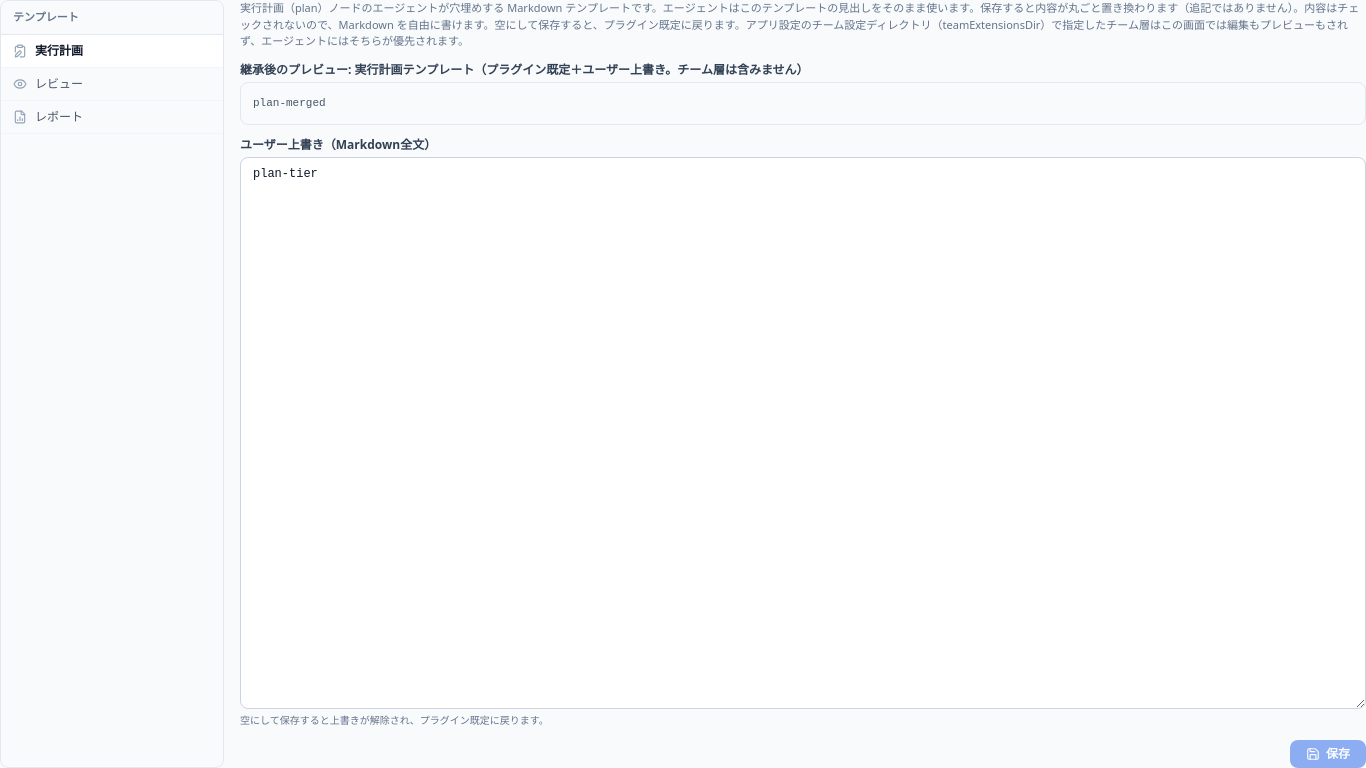
Scenario: TemplatesEditor › keeps the selection and the unsaved edit when the switch is cancelled with the cancel button
The width and height of the screenshot is (1366, 768).
Replace the text in the text box labelled "ユーザー上書き（Markdown全文）" with "# 編集途中" at (803, 433), box left=240, top=157, right=1365, bottom=709
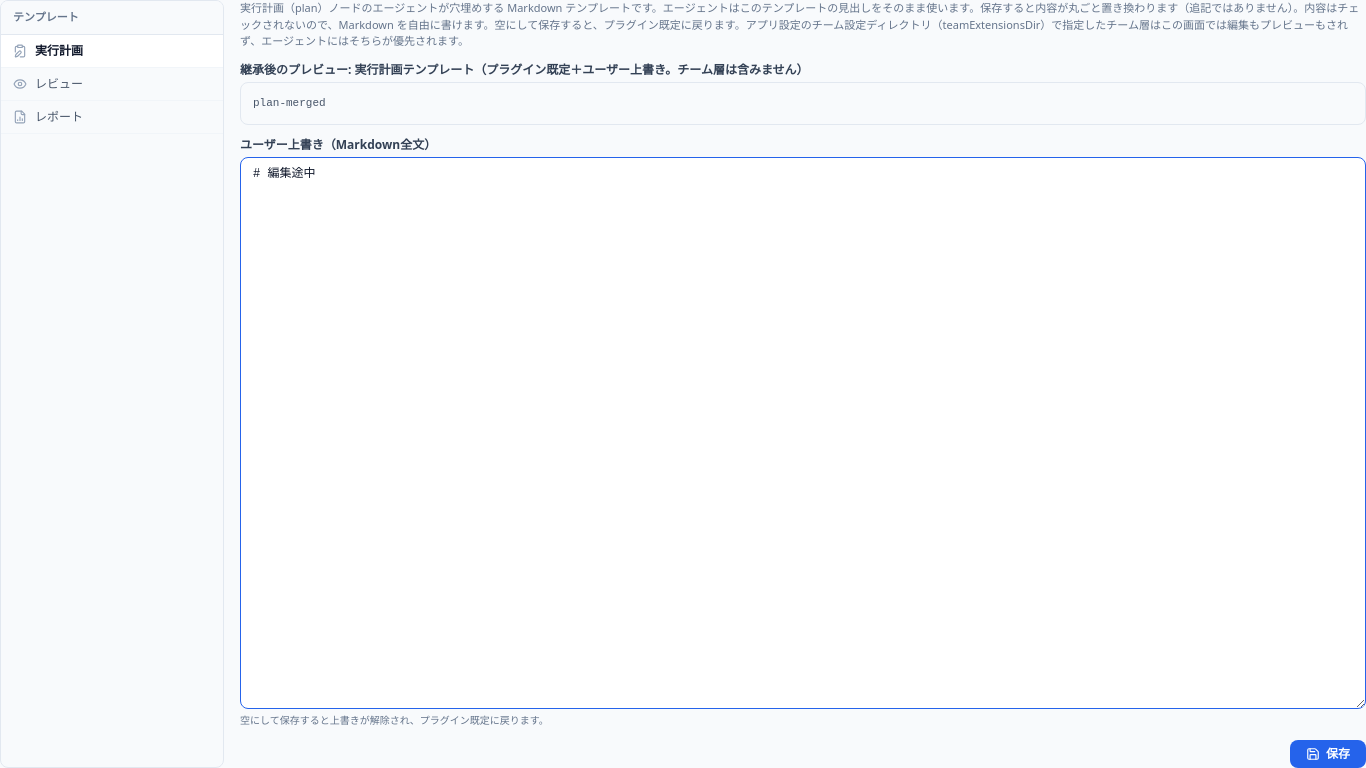
Click the button "レビュー" at (112, 84), box left=1, top=68, right=223, bottom=100
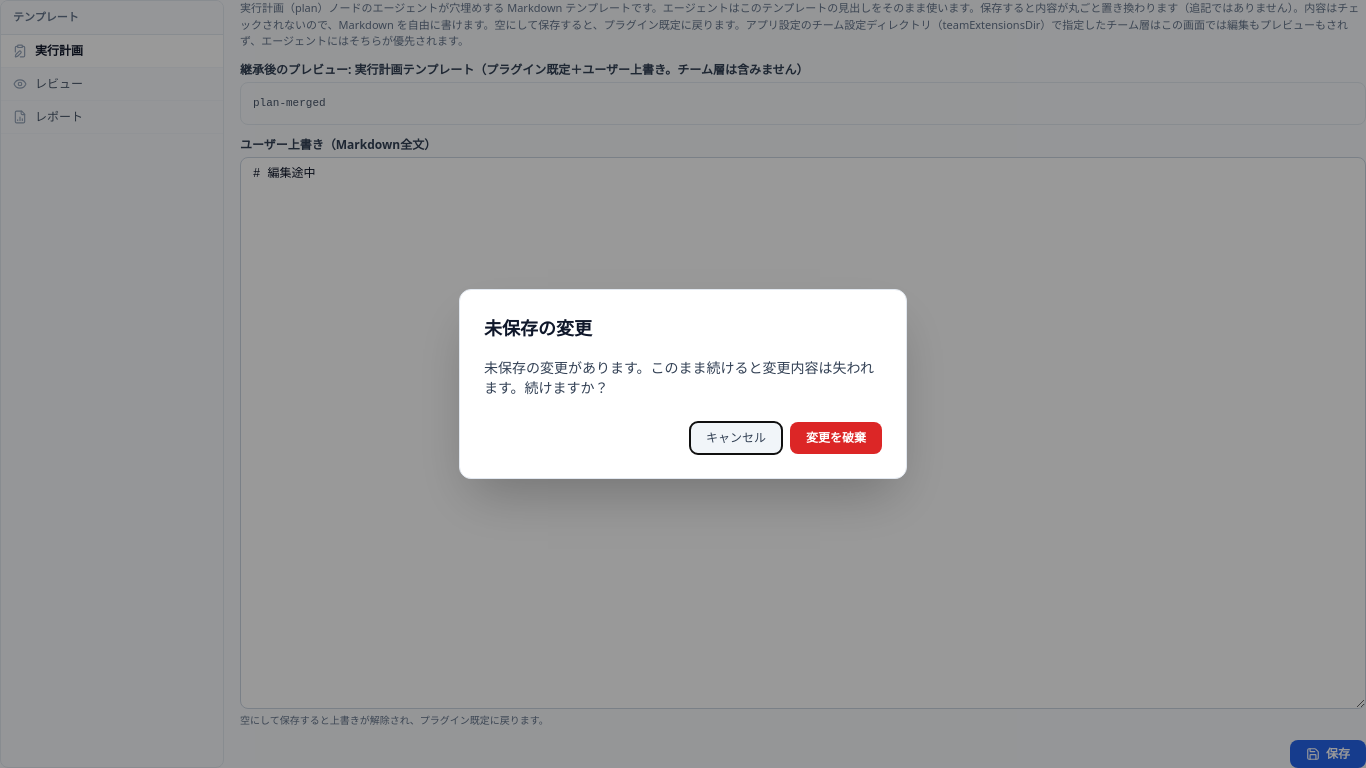
Click the button with test id "template-discard-confirm-cancel" at (736, 438), box left=690, top=422, right=782, bottom=454
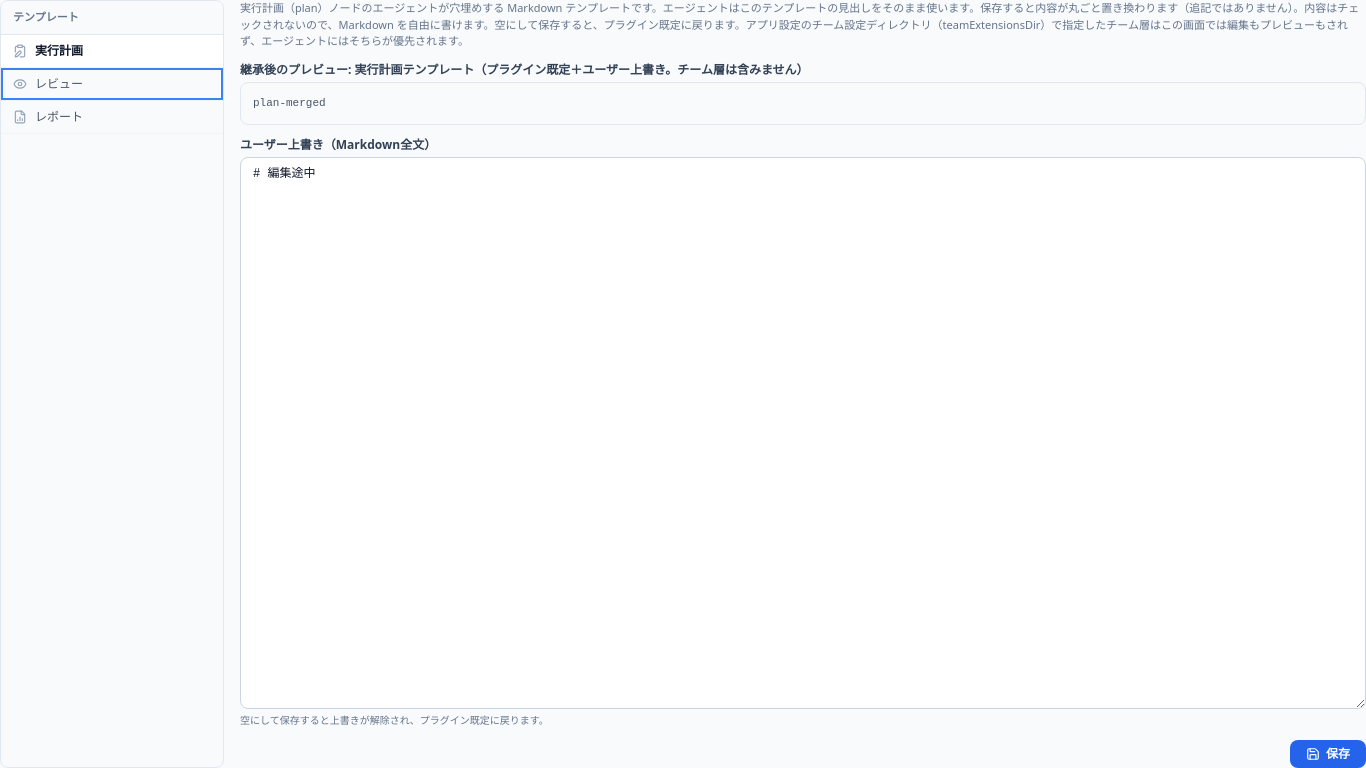
Now the dialog with test id "template-discard-confirm" is gone
